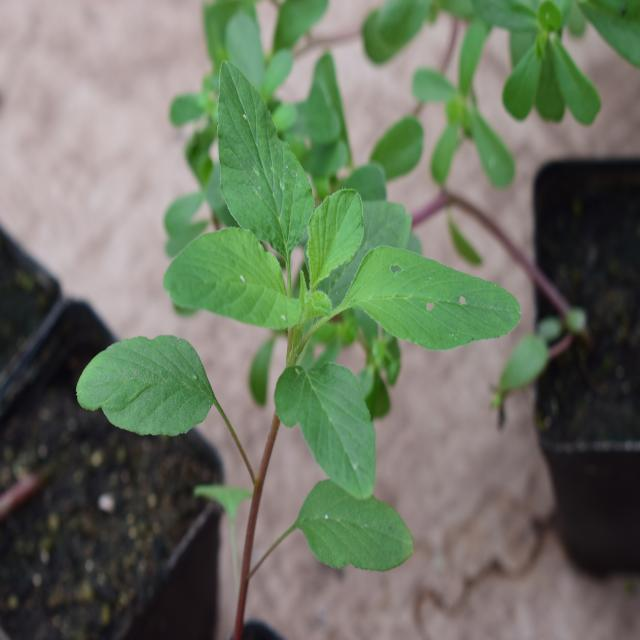pigweed: (111, 73, 486, 579)
